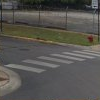crosswalk: (4, 50, 99, 74)
